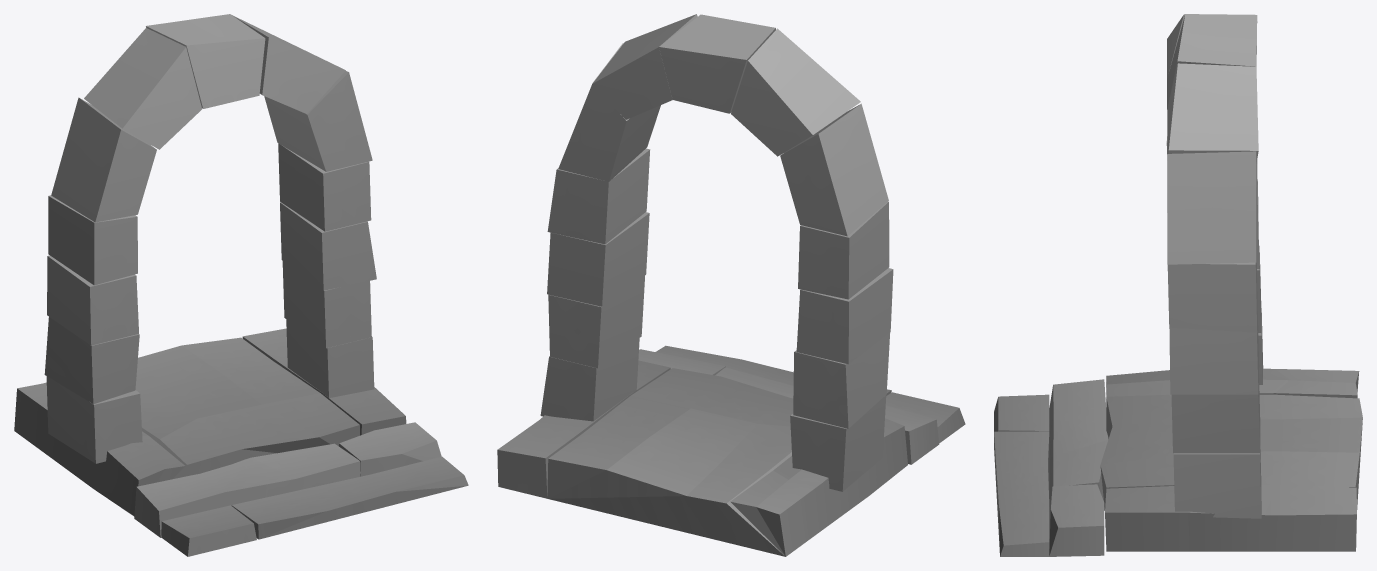
File: portal.fbx
The picture shows the model from 3 angles, left to right: view 1: azimuth 30°, elevation 25°; view 2: azimuth 150°, elevation 25°; view 3: azimuth 270°, elevation 25°; orthographic projection. The views are drawn at different scales.
Parts seen in each view (by area): view 1: tree_portal_blue; view 2: tree_portal_blue; view 3: tree_portal_blue.
Part boxes in pixels (<box>): tree_portal_blue: <box>14,14,468,556</box>; tree_portal_blue: <box>497,14,965,556</box>; tree_portal_blue: <box>994,14,1362,556</box>.
Size of the model in its own units: 393 by 530 by 400.
